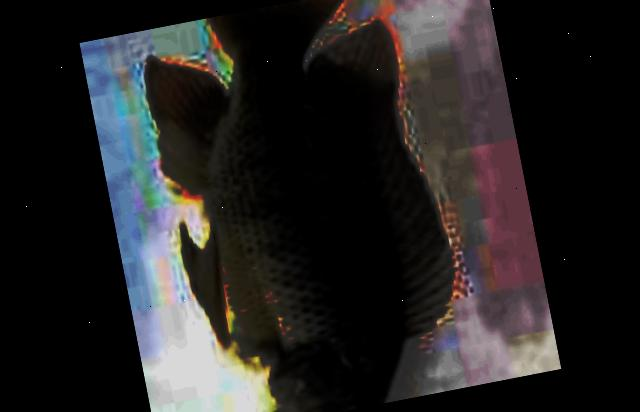Healthy Fish: (147, 0, 461, 412)
